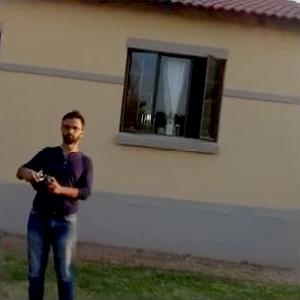follow: (11, 100, 98, 299)
